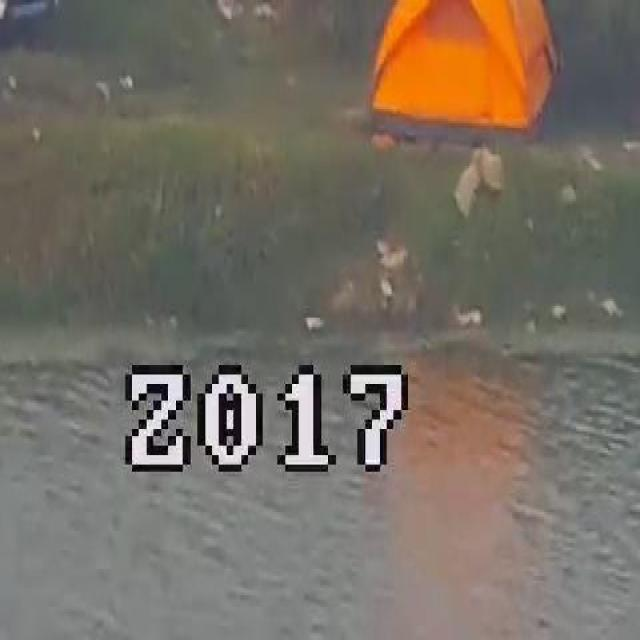other: (364, 5, 572, 144)
